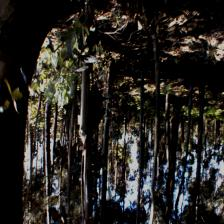trunktrack_idkeyframe: (152, 43, 160, 152), (197, 68, 206, 160), (79, 71, 89, 144), (139, 60, 146, 156), (43, 105, 52, 176), (186, 76, 194, 153), (102, 104, 111, 156), (165, 94, 171, 166)
